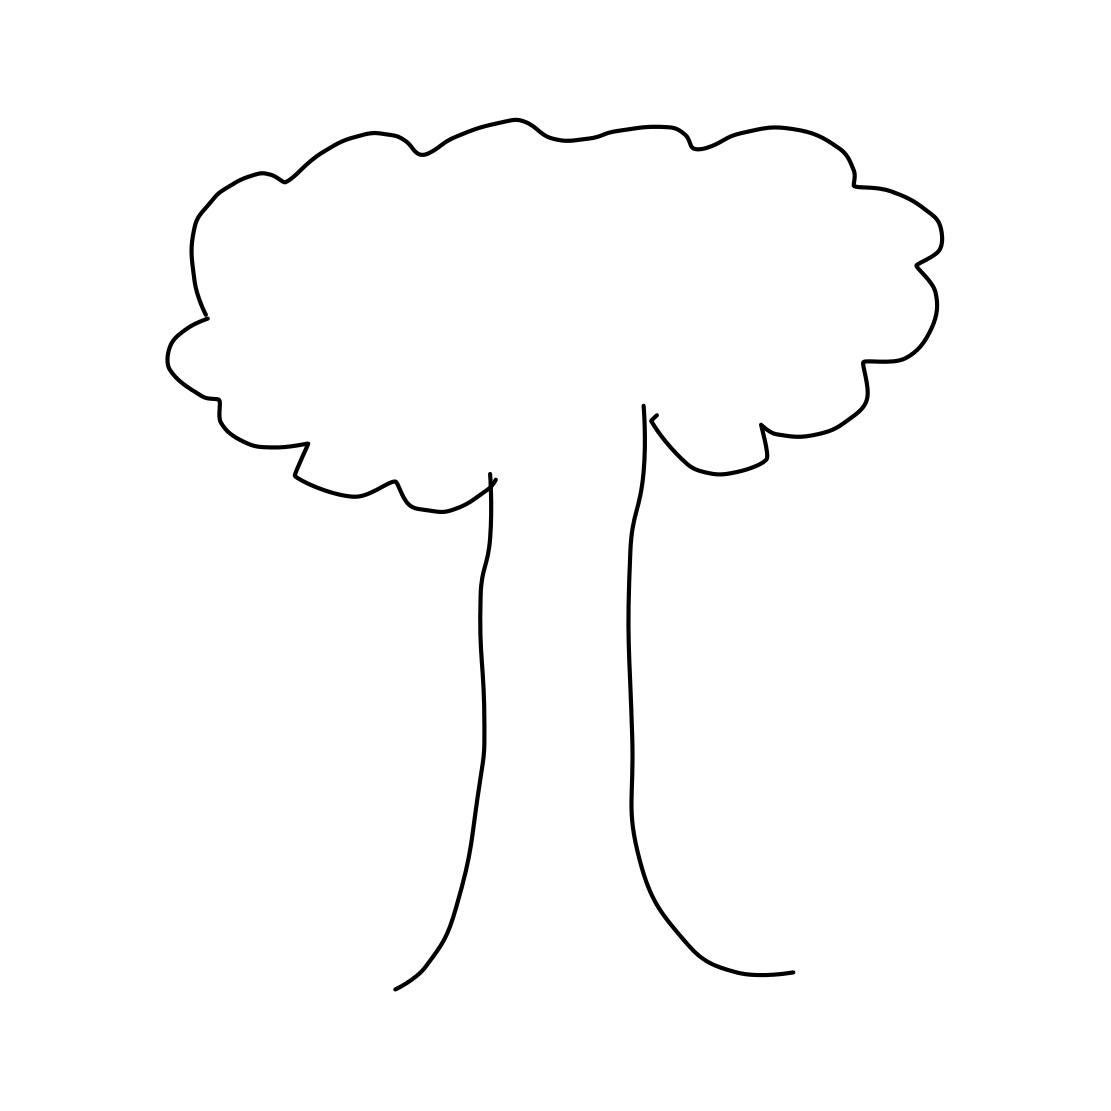Tree: (134, 67, 947, 1011)
